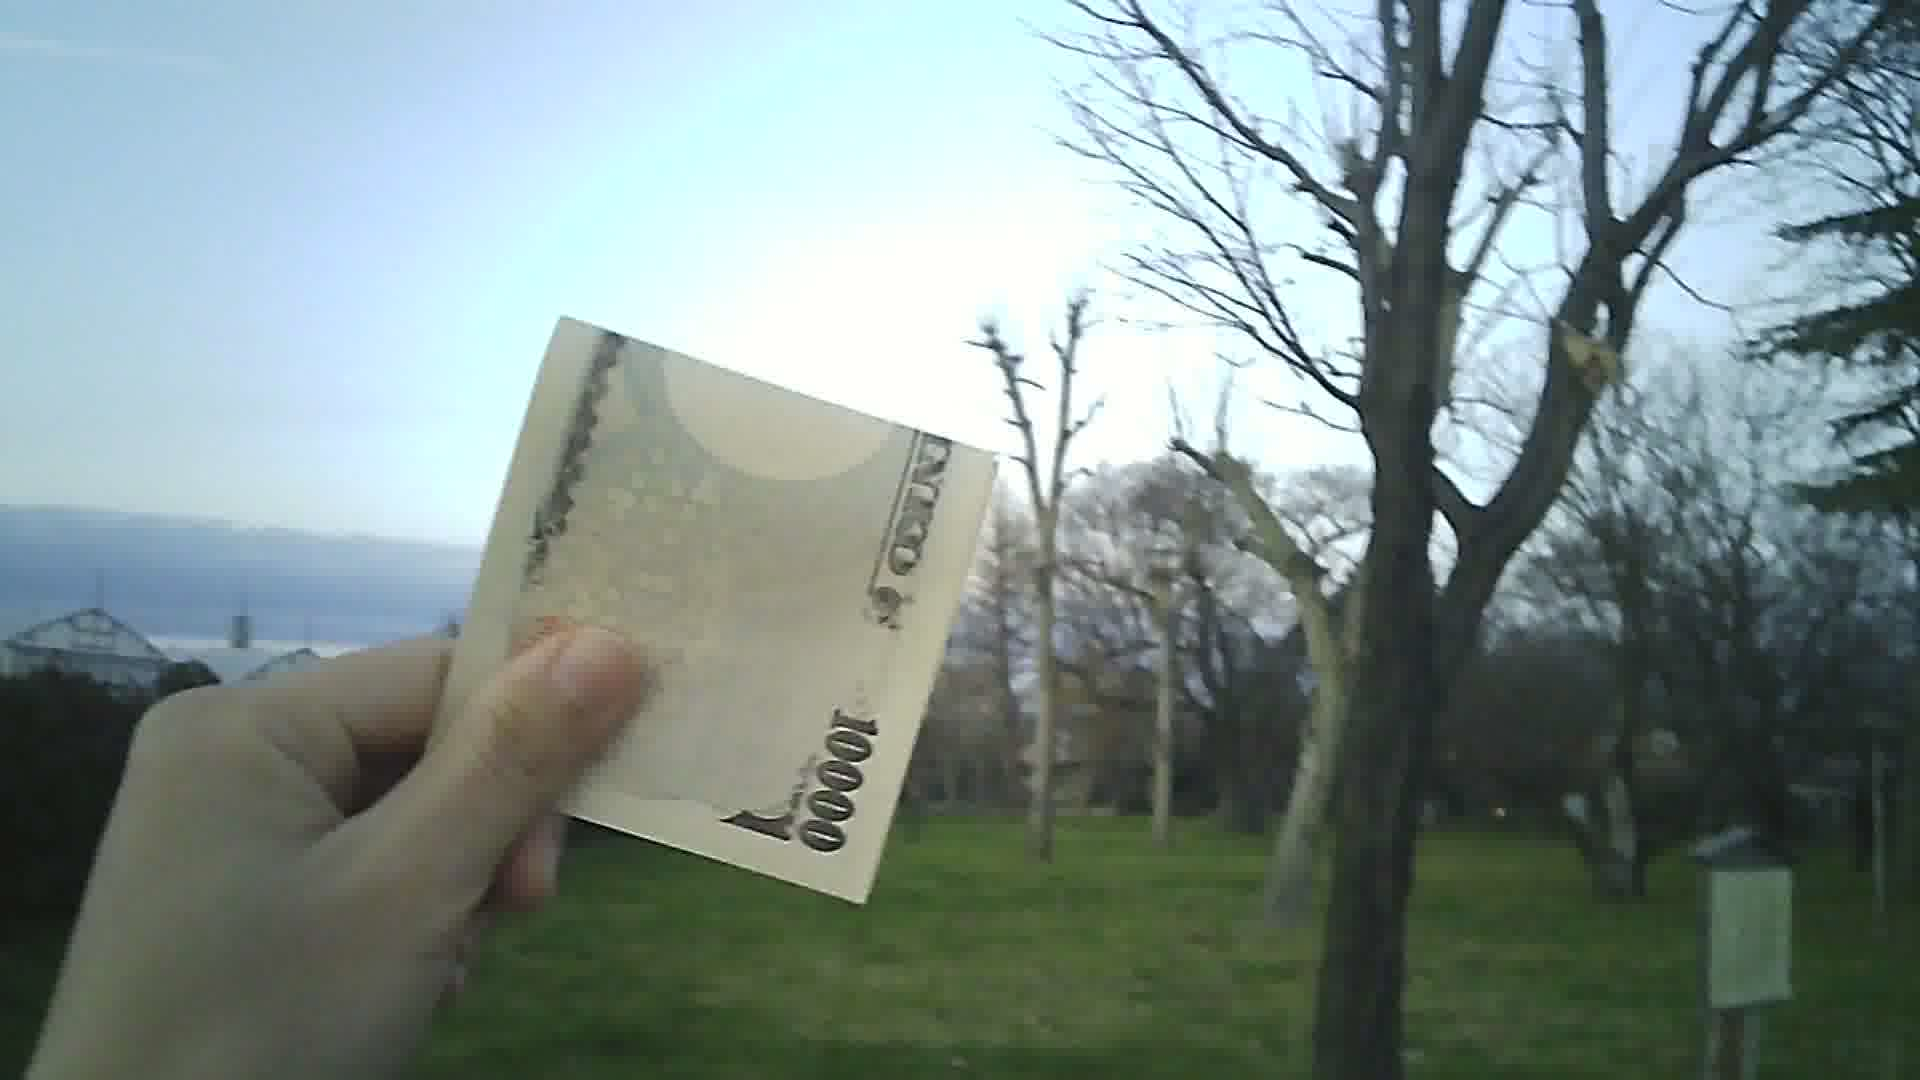10,000 Yen: (468, 301, 1007, 928)
